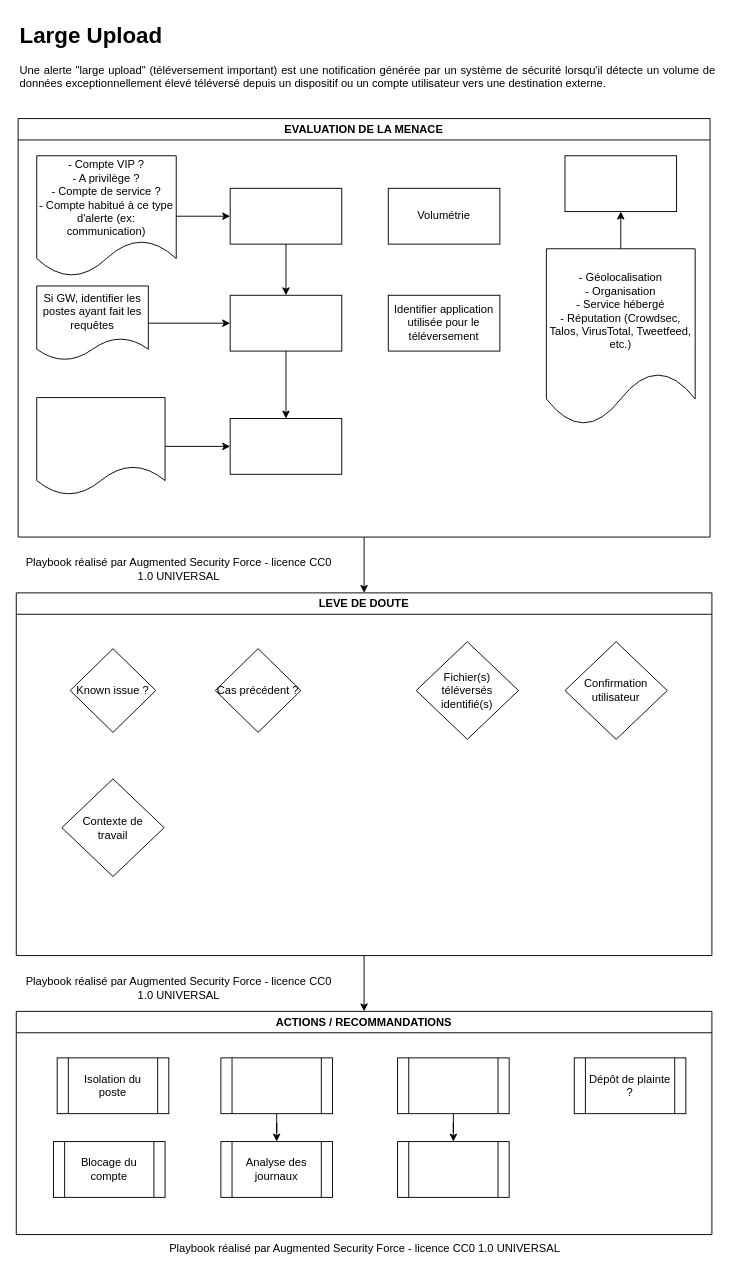
Some shapes in this 732 by 1278 pixel diagram are drawn without their labels. The shapes that lost their labels are listed below. From the top down, each one's centre as x and y in pixels, then its label:
At pixel 620 183: "Identifier destination".
At pixel 285 215: "Identifier le compte à l'origine de l'alerte".
At pixel 285 322: "Identifier le poste lié à cet utilisateur".
At pixel 100 446: "Vulnérabilités pouvant avoir été exploitées pour compromettre le système".
At pixel 285 446: "Identifier les vulnérabilités du poste".
At pixel 276 1085: "Extraction des preuves".
At pixel 453 1085: "Ajout de l'IP block list".
At pixel 453 1169: "Contrôler accès précédents".
